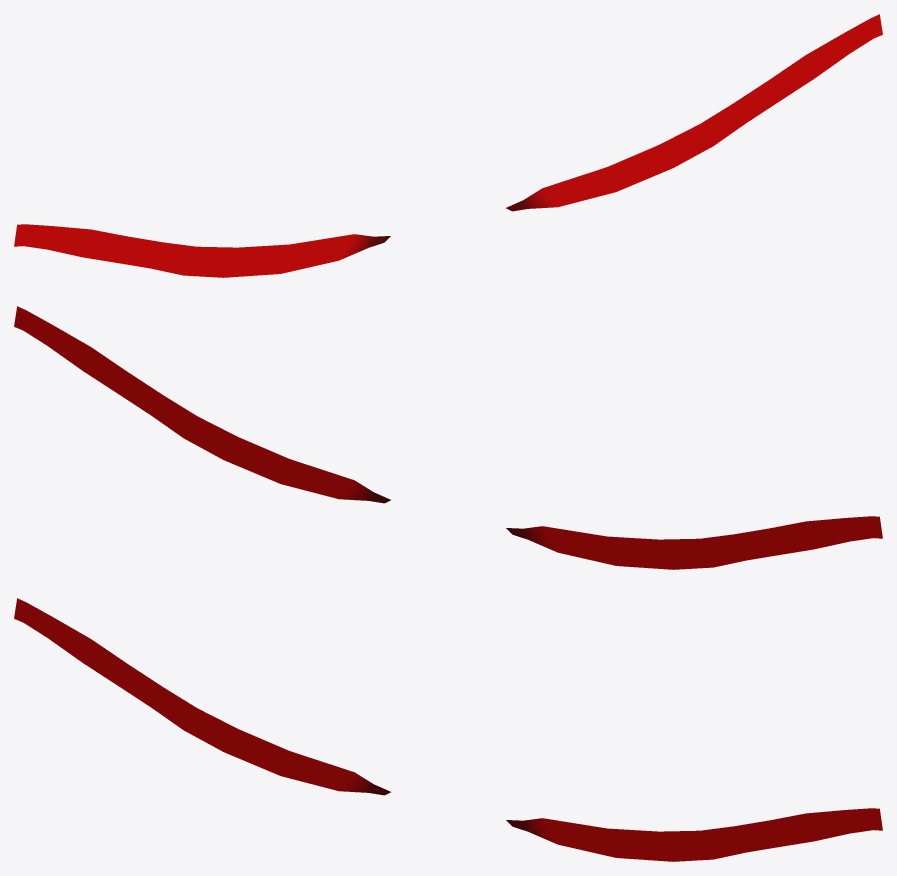
Rendered from frame157.fbx.
3 renders of one model, top to bottom at view 1: azimuth 30°, elevation 25°; view 2: azimuth 150°, elevation 25°; view 3: azimuth 330°, elevation 25°, orthographic.
Visible parts, largest first — view 1: MaterialLayer; view 2: MaterialLayer; view 3: MaterialLayer.
Part boxes in pixels (bbox=[...]): MaterialLayer: bbox=[14, 14, 882, 277]; MaterialLayer: bbox=[14, 306, 882, 569]; MaterialLayer: bbox=[14, 598, 882, 861].
Size of the model in its own units: 1491 by 188 by 0.
